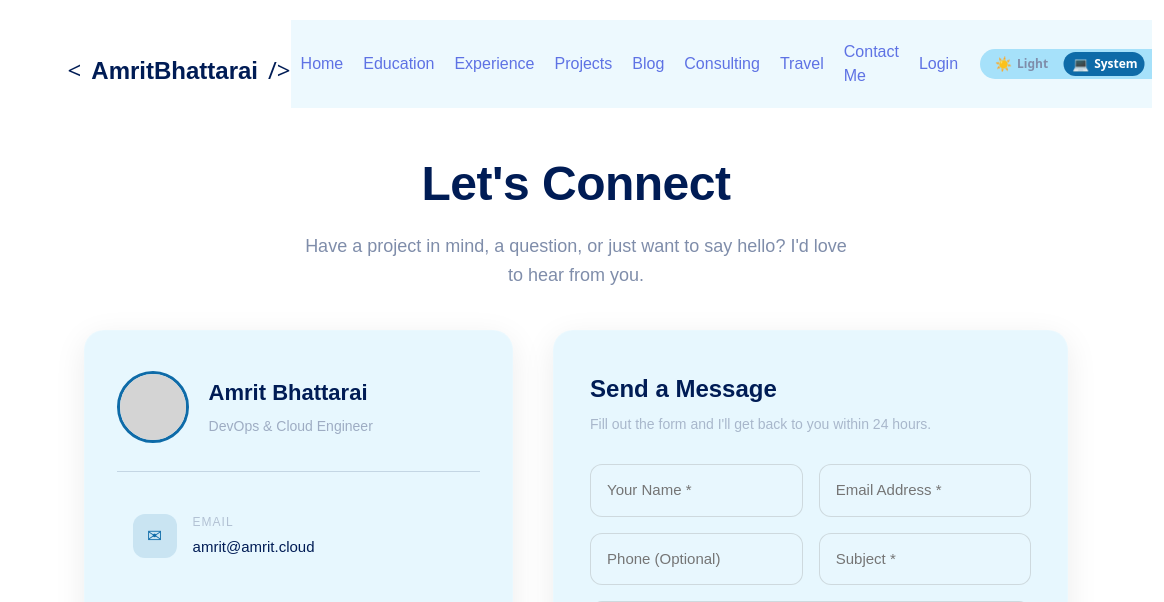
ContactComponent › shows captcha error when form is filled but captcha not verified
Type "John Doe" into the field with placeholder "Your Name *" at x=696, y=491, box [590,464,803,517]
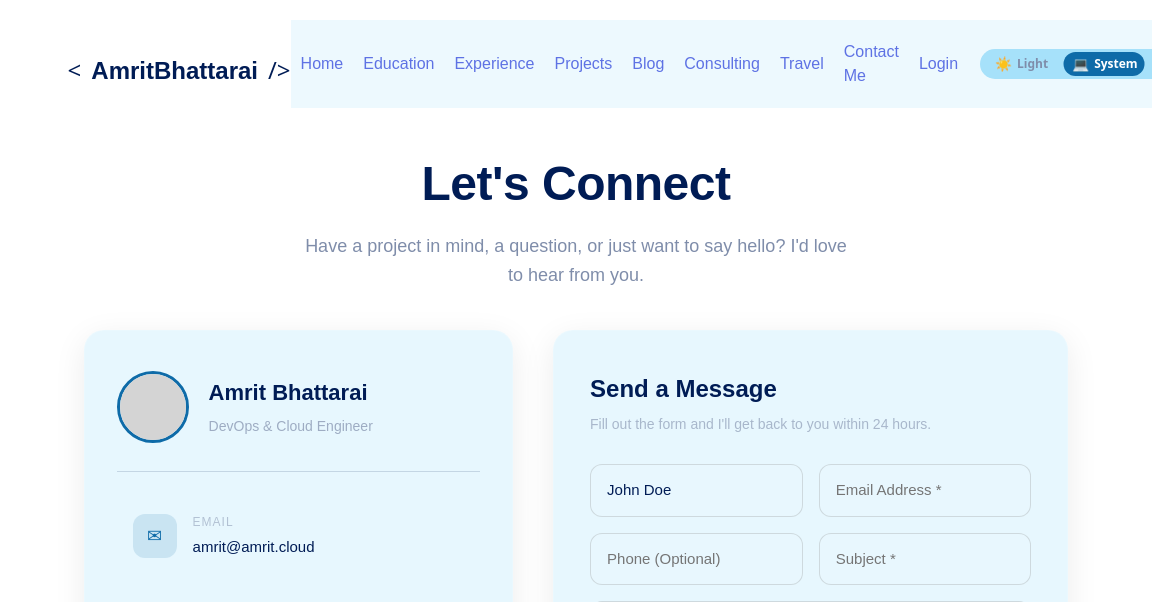
Type "john@example.com" into the field with placeholder "Email Address *" at x=925, y=491, box [819,464,1031,517]
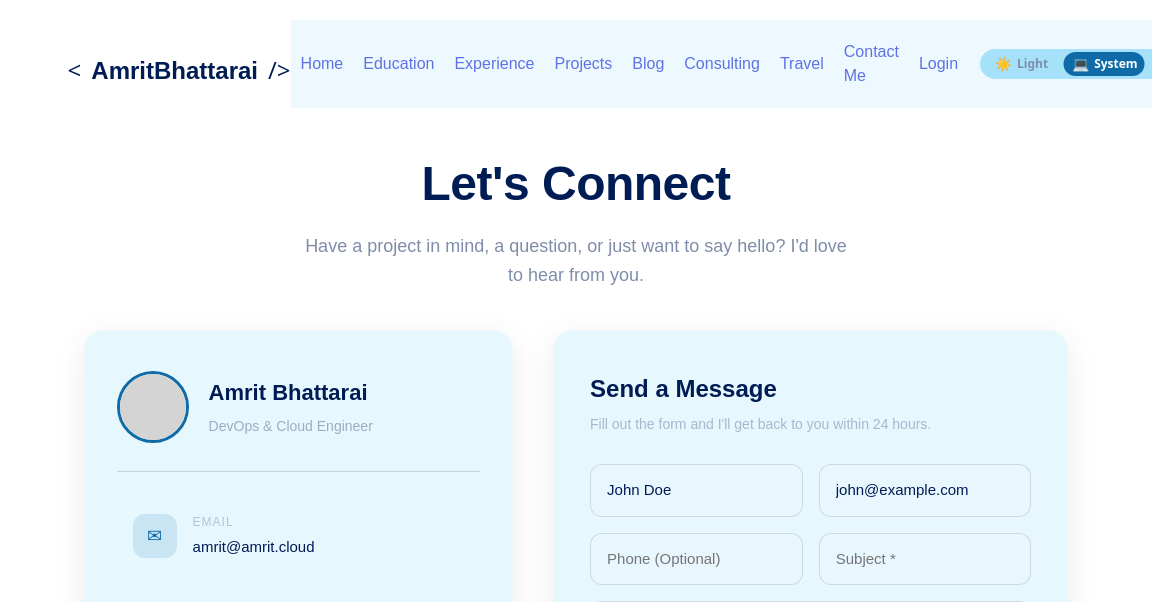
Type "Hello" into the field with placeholder "Subject *" at x=925, y=559, box [819,533,1031,585]
(page scrolled)
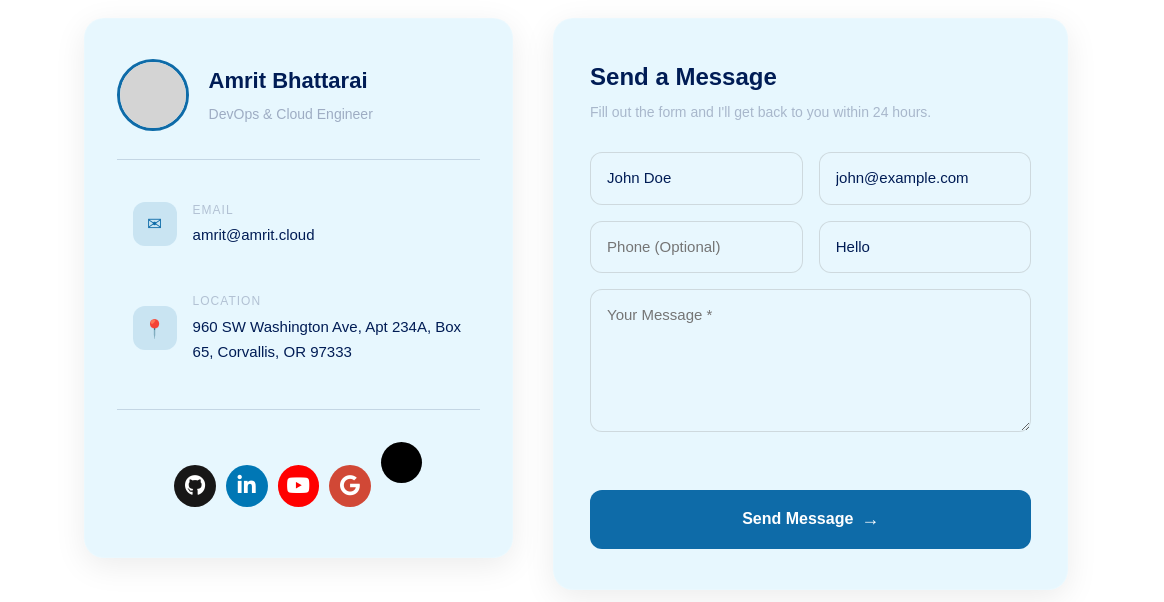
Type "This is a test message." into the text box with placeholder "Your Message *" at x=811, y=361, box [590,289,1031,432]
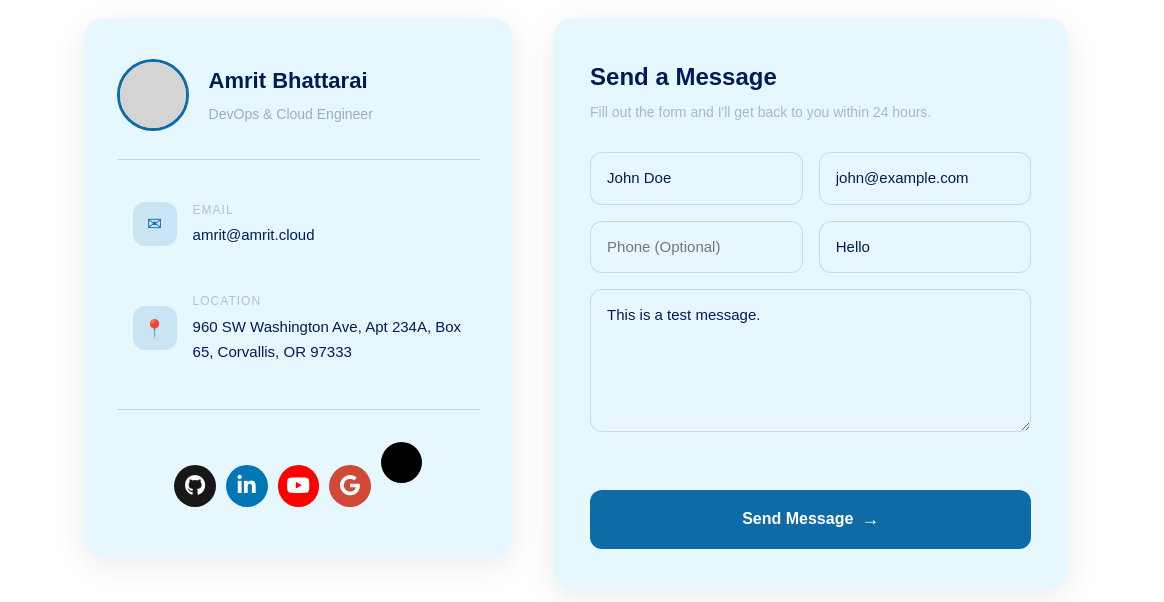
Note: Don't click the CAPTCHA verify button — submit without token
Click the button "Send Message →" at x=811, y=519, box [590,490,1031,549]
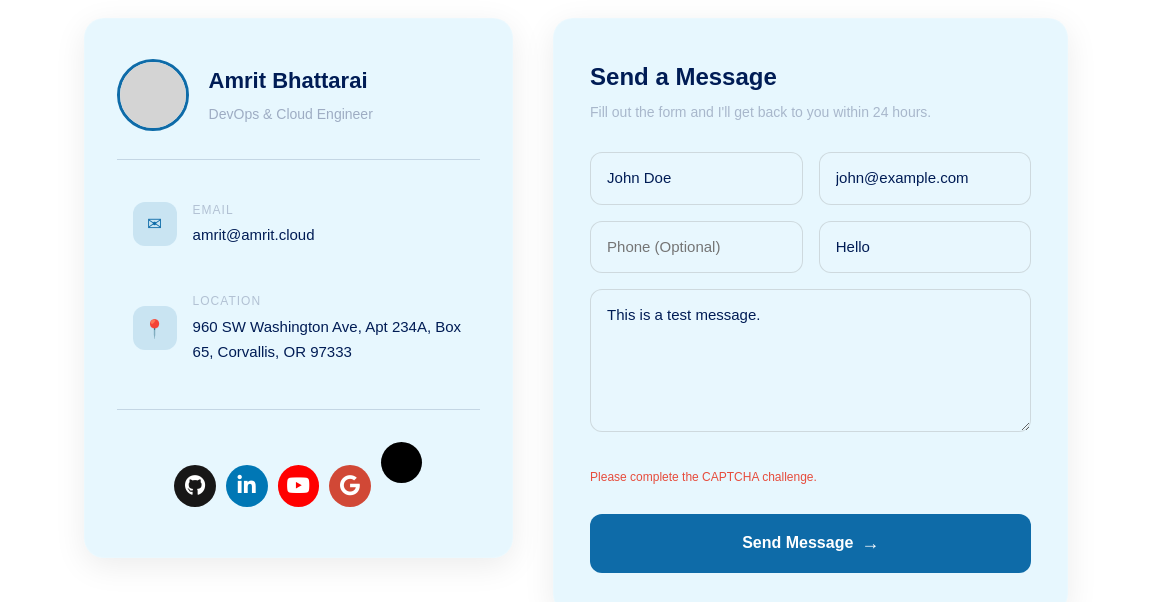
Check: the text "Please complete the CAPTCHA challenge." is shown, box [590,470,817,484]
